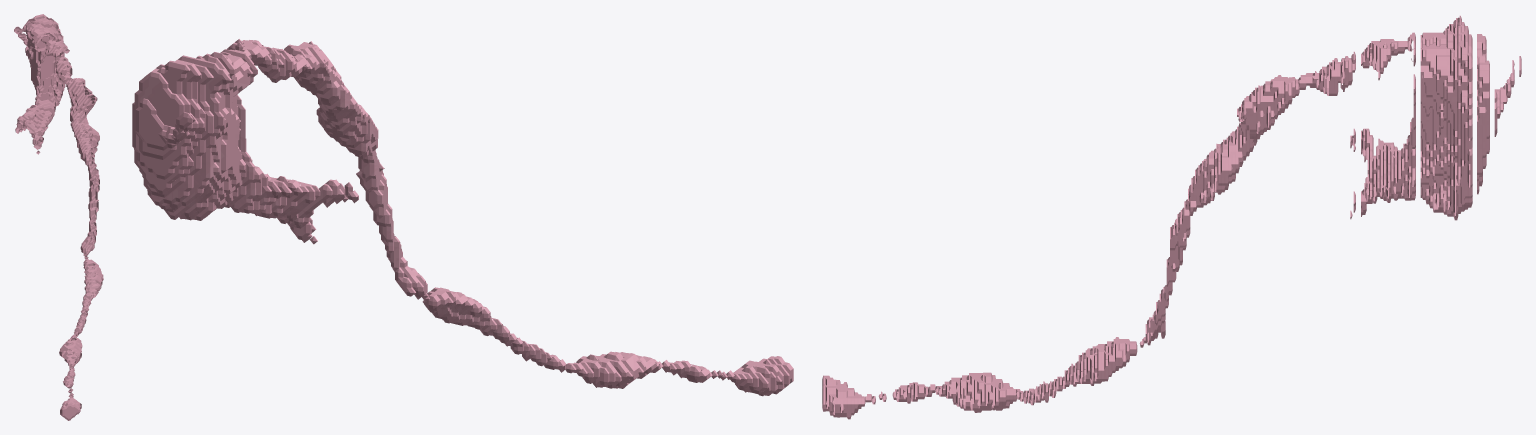
Rendered from SVV_RMGR.gltf.
3 views of the same model, side by side, from view 1: azimuth 30°, elevation 25°; view 2: azimuth 150°, elevation 25°; view 3: azimuth 270°, elevation 25° (orthographic). The views are drawn at different scales.
Parts seen in each view (by area): view 1: RMGR; view 2: RMGR; view 3: RMGR.
Boxes of the visible parts, bbox=[...] form: RMGR: bbox=[14, 14, 103, 420]; RMGR: bbox=[132, 39, 793, 396]; RMGR: bbox=[822, 15, 1521, 419].
Bounding box in the file's own units: 41507 × 61461 × 76202.
